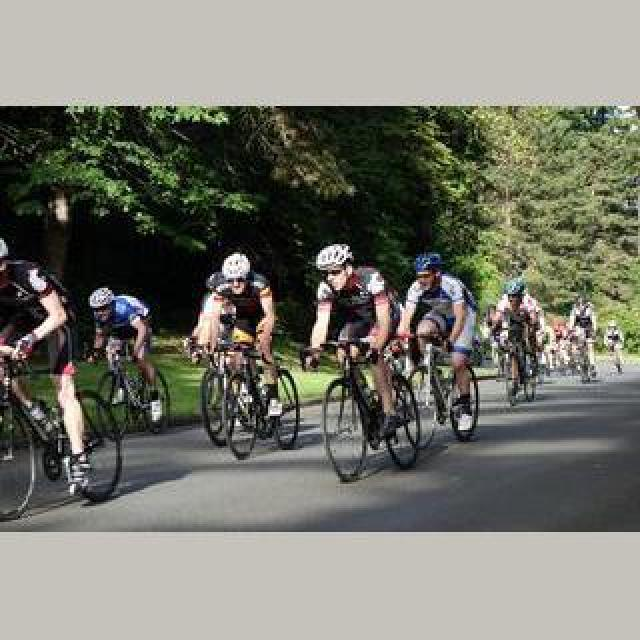MC-Bike: (0, 242, 94, 486), (302, 244, 398, 440), (188, 250, 280, 436), (398, 254, 478, 432), (88, 286, 160, 414), (490, 284, 546, 400)
Person: (0, 342, 124, 518), (306, 338, 422, 484), (194, 338, 300, 460), (396, 334, 476, 446), (92, 340, 168, 436), (496, 324, 544, 404)
